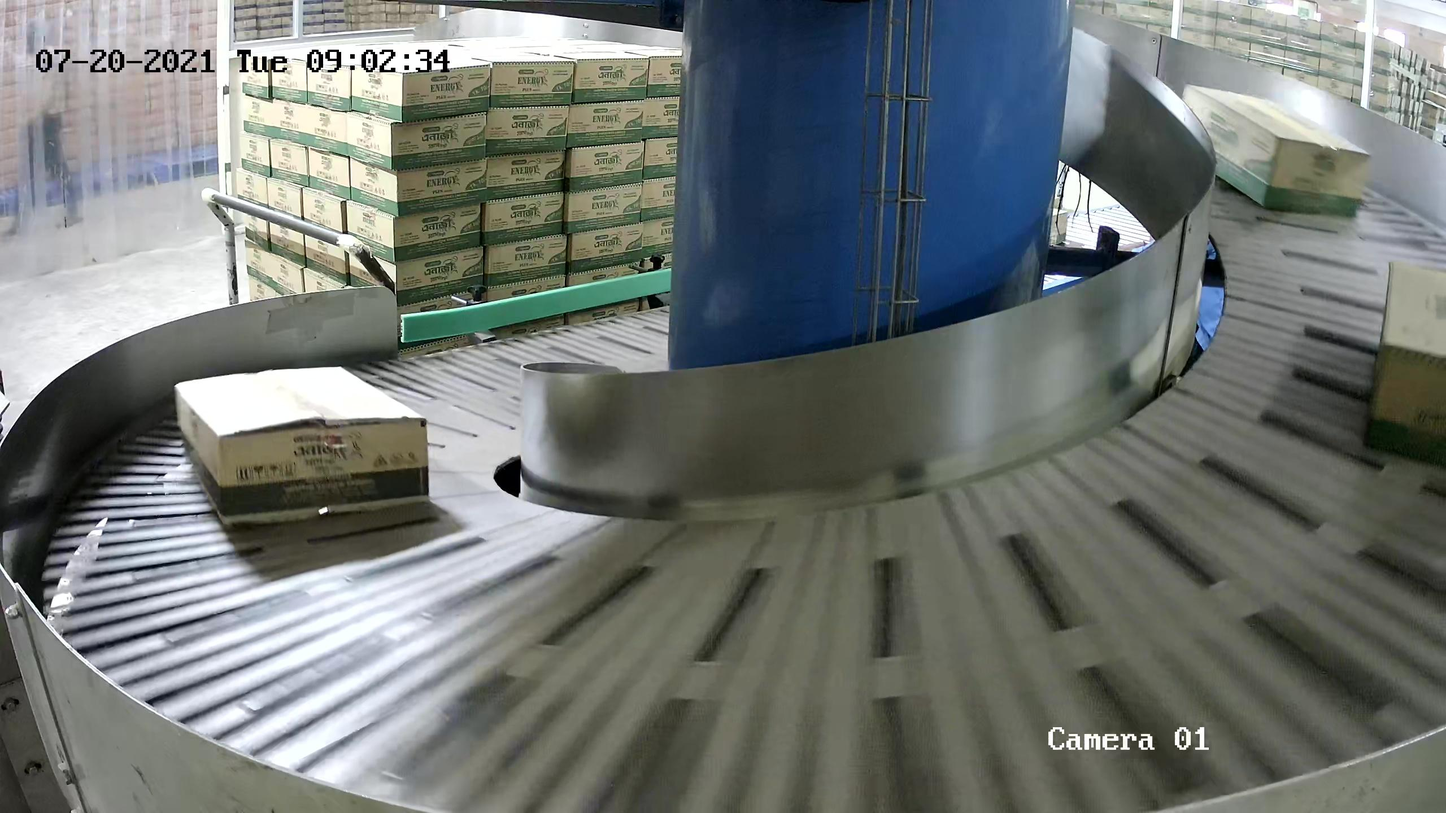Box: (172, 364, 432, 529), (1180, 82, 1372, 218), (1361, 258, 1446, 465)
